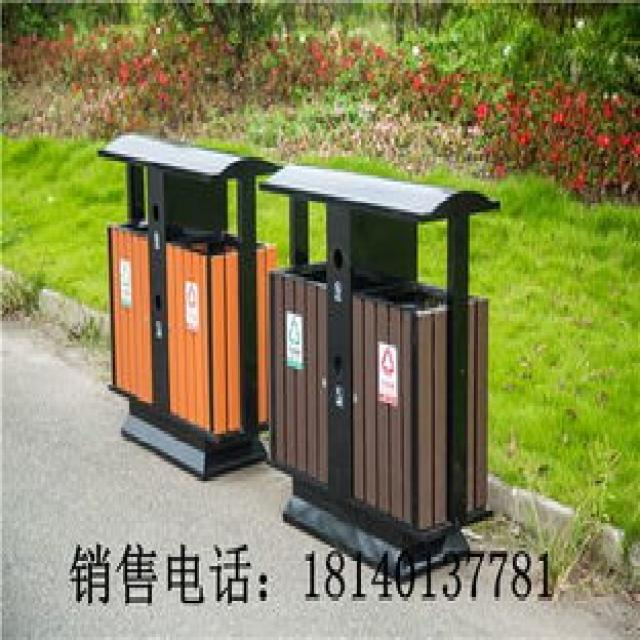garbage_bin: (256, 157, 500, 578), (94, 129, 281, 480)
